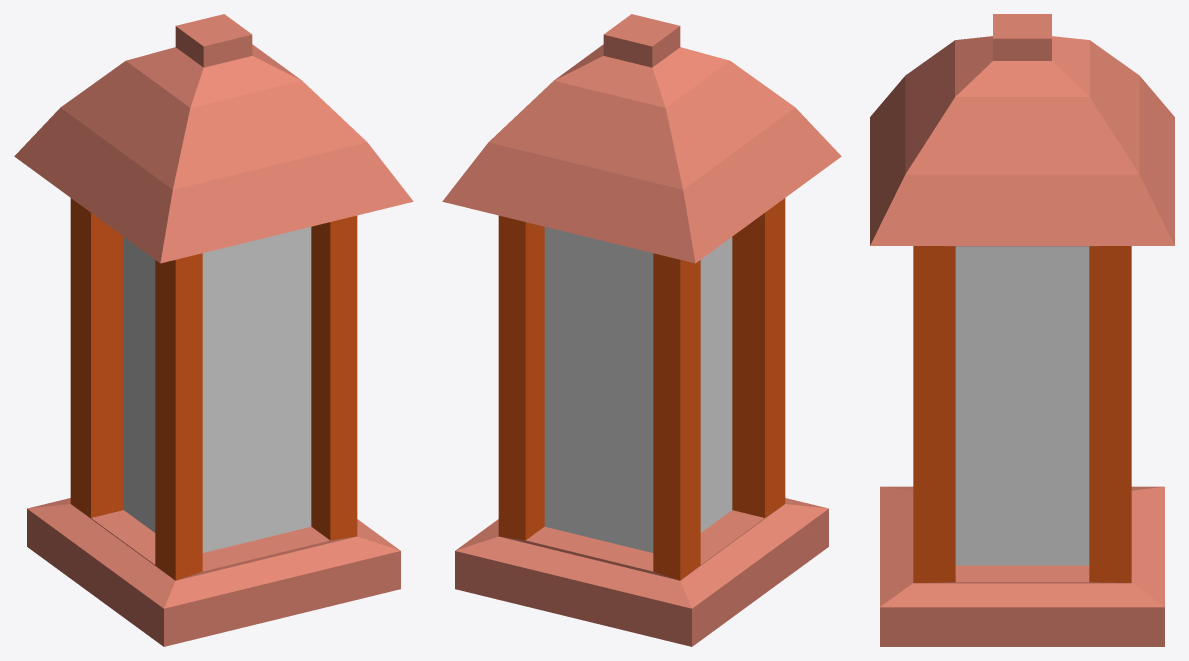
Rendered from Lantern.fbx.
3 views of the same model, side by side, from view 1: azimuth 30°, elevation 25°; view 2: azimuth 150°, elevation 25°; view 3: azimuth 270°, elevation 25° (orthographic). The views are drawn at different scales.
Visible parts, largest first — view 1: Cube; view 2: Cube; view 3: Cube.
Part boxes in pixels (left/top/right/bottom): Cube: left=14, top=14, right=413, bottom=646; Cube: left=442, top=14, right=841, bottom=646; Cube: left=870, top=14, right=1174, bottom=646.
Bounding box in the file's own units: 279 × 566 × 279.
